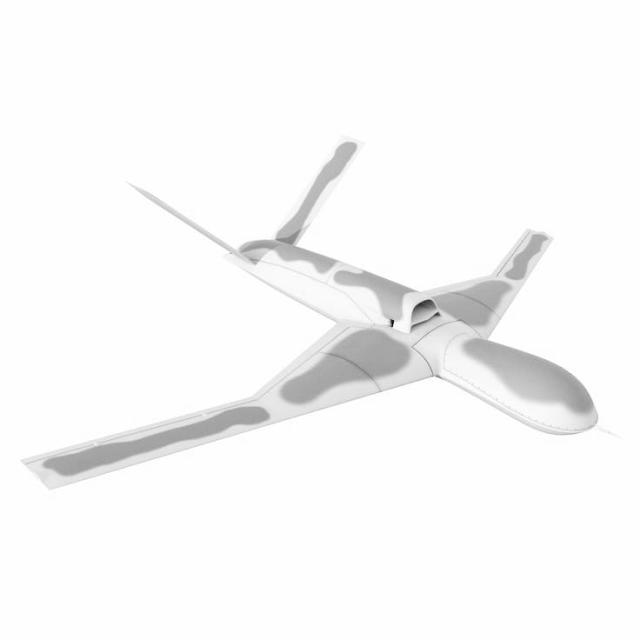iha: (22, 134, 597, 489)
